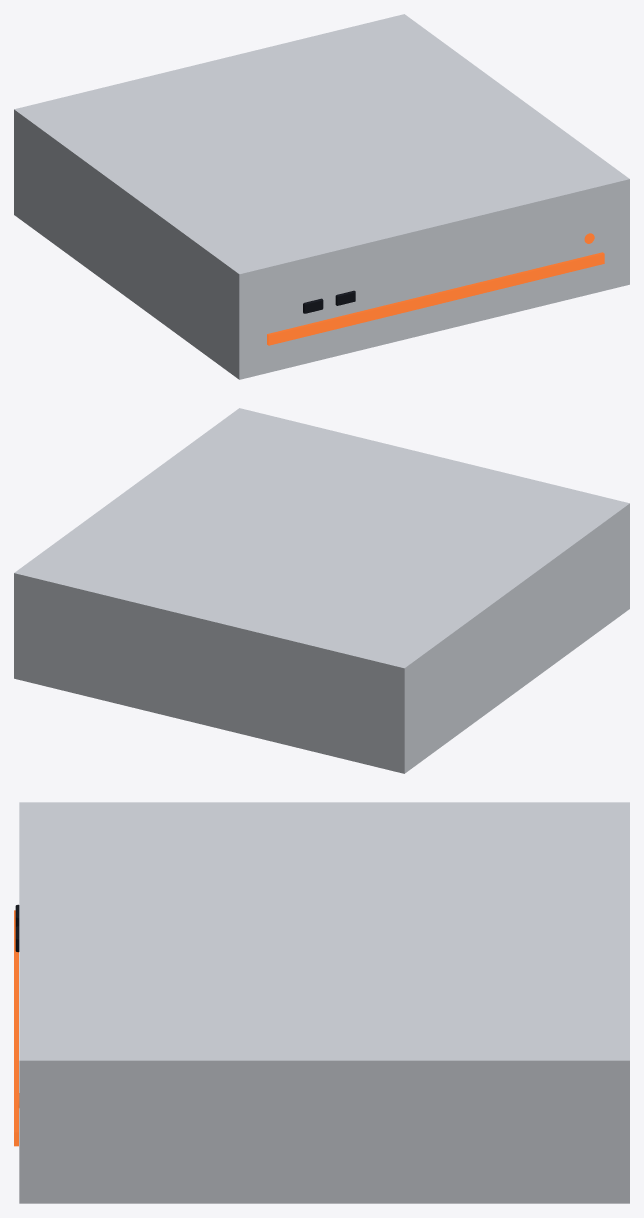
The model's file is mini.glb.
3 views of the same model, one above another, from view 1: azimuth 30°, elevation 25°; view 2: azimuth 150°, elevation 25°; view 3: azimuth 270°, elevation 25° (orthographic). The views are drawn at different scales.
Visible parts, largest first — view 1: body (×2), status; view 2: body (×2); view 3: body (×2), status.
Part boxes in pixels (x1,y1,x2,y2): body (×2): (14,14,629,379); status: (267,252,604,345); body (×2): (14,408,629,773); body (×2): (19,802,629,1203); status: (14,910,18,1146).
Size of the model in its own units: 2.4 by 0.62 by 2.42.
